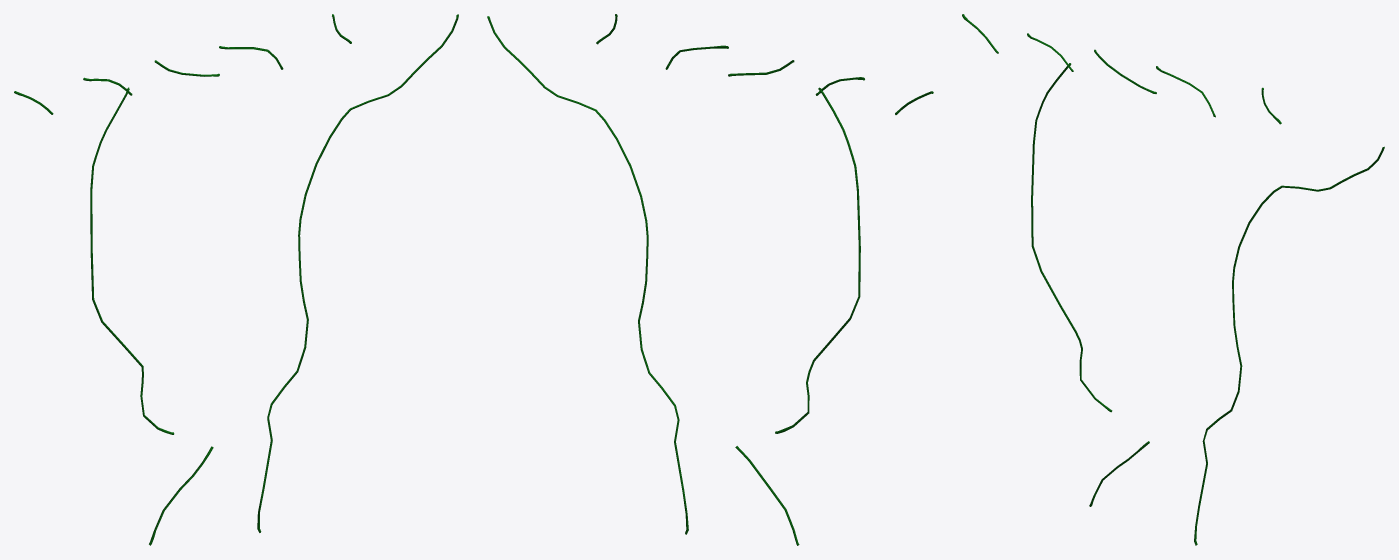
The model's file is SM_VineSet.004.fbx.
3 renders of one model, left to right at view 1: azimuth 30°, elevation 25°; view 2: azimuth 150°, elevation 25°; view 3: azimuth 330°, elevation 25°, orthographic. The views are drawn at different scales.
Visible parts, largest first — view 1: SM_VineSet_004; view 2: SM_VineSet_004; view 3: SM_VineSet_004.
Part boxes in pixels (x1,y1,x2,y2): SM_VineSet_004: [14, 14, 458, 545]; SM_VineSet_004: [487, 14, 933, 545]; SM_VineSet_004: [962, 14, 1384, 545].
Bounding box in the file's own units: 18.03 × 775 × 835.
